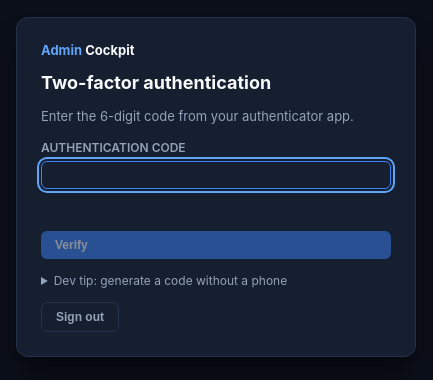
it: AuthProvider + AuthGate: admin TOTP at aal1 (mocked Supabase) › wrong code keeps the app locked and shows the provider message
Type "000000" into the field labelled "Authentication code" at (216, 175), box [41, 161, 391, 189]
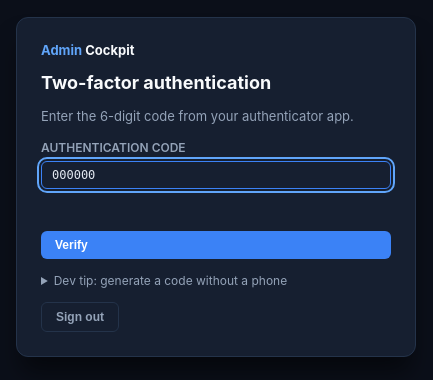
Click the button "Verify" at (71, 245), box [41, 231, 391, 259]
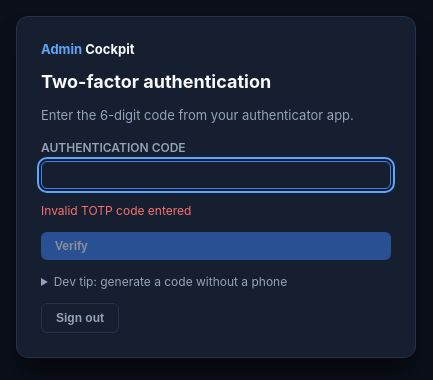
Expected: the message reads "Invalid TOTP code entered", [41, 203, 191, 218]
